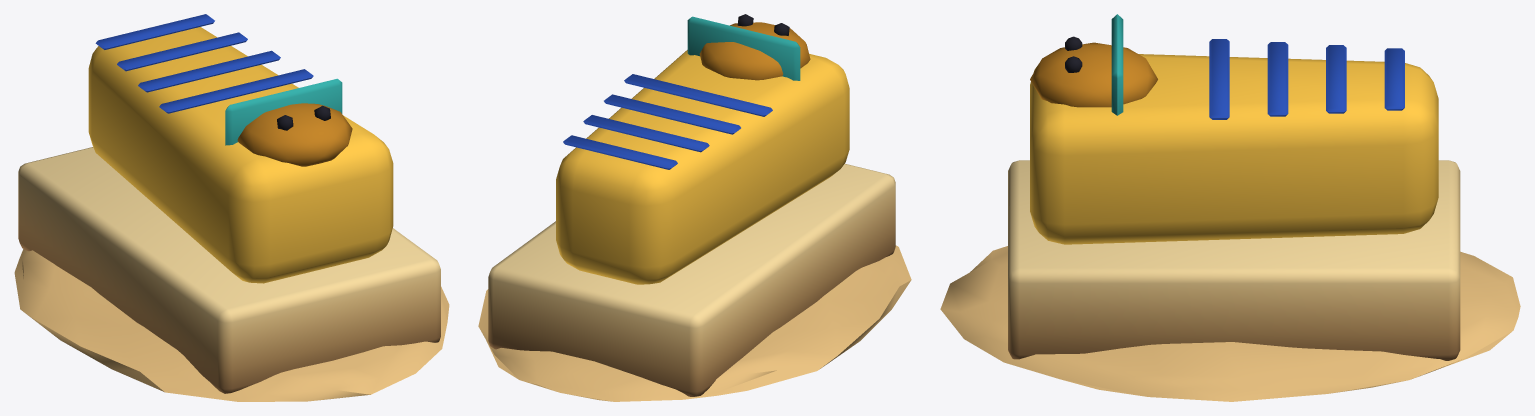
Rendered from Sarcophagus.fbx.
3 renders of one model, left to right at view 1: azimuth 30°, elevation 25°; view 2: azimuth 150°, elevation 25°; view 3: azimuth 270°, elevation 25°, orthographic. The views are drawn at different scales.
Visible parts, largest first — view 1: Sarcophagus; view 2: Sarcophagus; view 3: Sarcophagus.
Boxes of the visible parts, left/top/right/bottom form: Sarcophagus: left=14, top=14, right=449, bottom=401; Sarcophagus: left=478, top=14, right=911, bottom=401; Sarcophagus: left=940, top=14, right=1520, bottom=401.
Bounding box in the file's own units: 1.51 × 1 × 1.99.
1 material, 1 textured.
